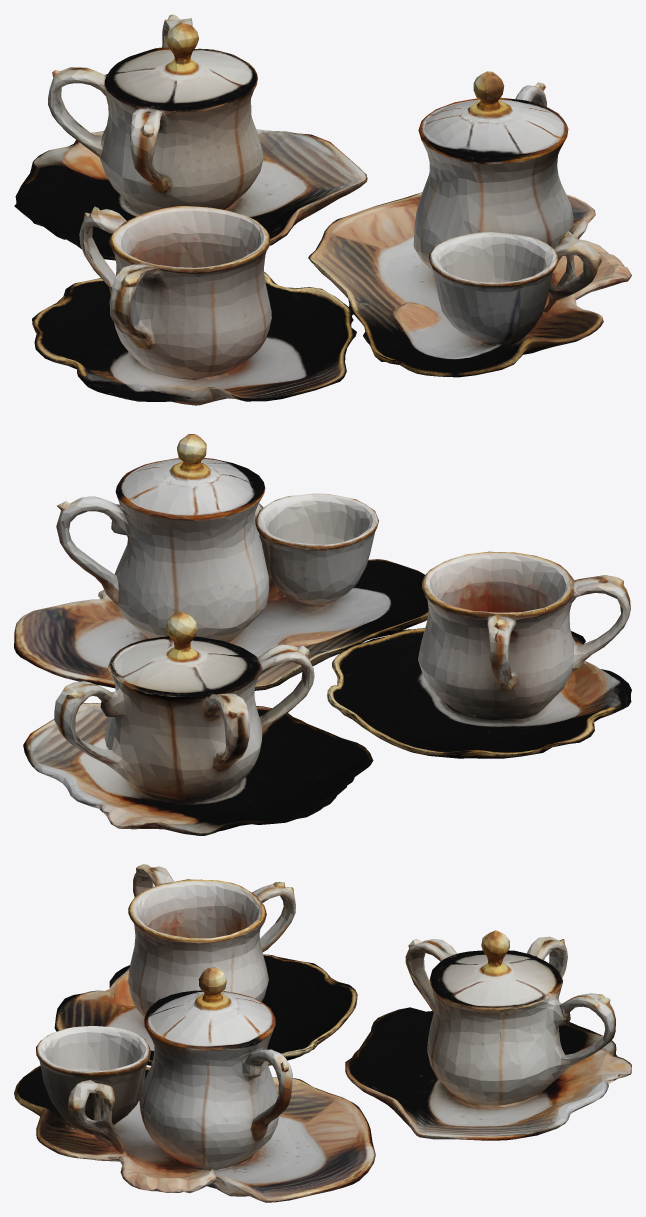
The model's file is porcelain-espresso-set-used-rustic-worn.jpeg.glb.
The picture shows the model from 3 angles, top to bottom: view 1: azimuth 30°, elevation 25°; view 2: azimuth 150°, elevation 25°; view 3: azimuth 270°, elevation 25°; orthographic projection. The views are drawn at different scales.
Visible parts, largest first — view 1: world; view 2: world; view 3: world.
Part boxes in pixels (bbox=[...]): world: bbox=[14, 14, 631, 405]; world: bbox=[14, 434, 631, 835]; world: bbox=[14, 864, 631, 1202].
Size of the model in its own units: 0.9393 by 0.3459 by 0.9954.
1 material, 1 textured.
